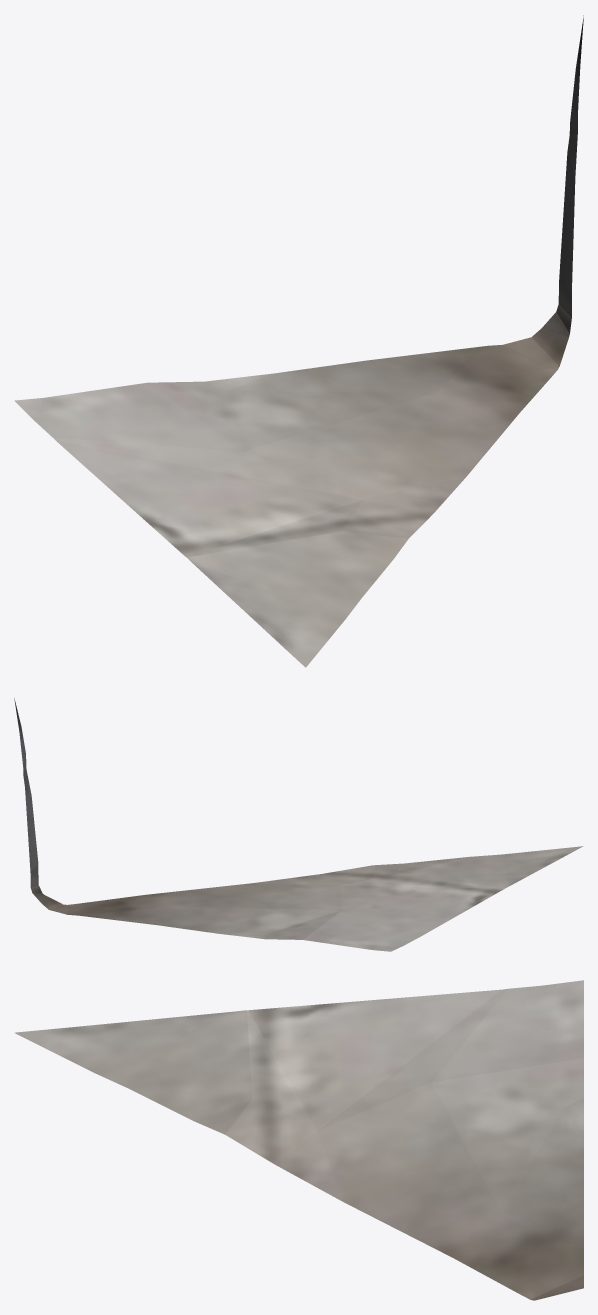
3 views of the same model, one above another, from view 1: azimuth 30°, elevation 25°; view 2: azimuth 150°, elevation 25°; view 3: azimuth 270°, elevation 25° (orthographic). The views are drawn at different scales.
Bounding box in the file's own units: 1.06 × 0.5737 × 0.9406.
1 material, 1 textured.
